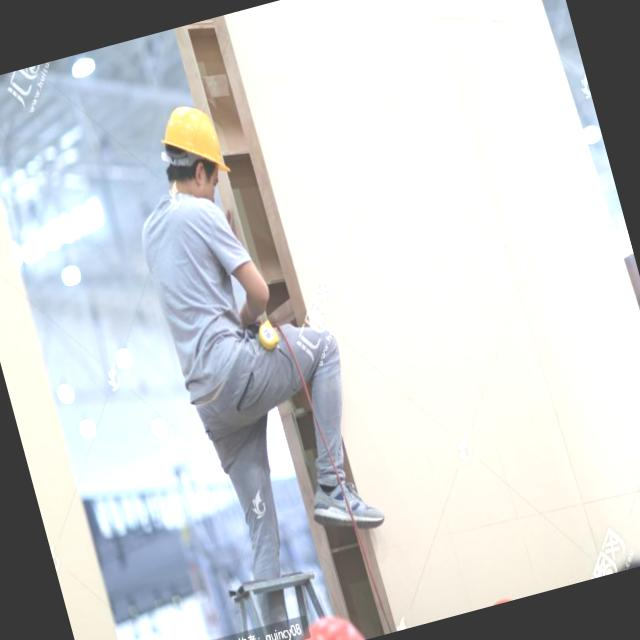helmet: (148, 92, 228, 179)
no-vest: (126, 182, 296, 428)
